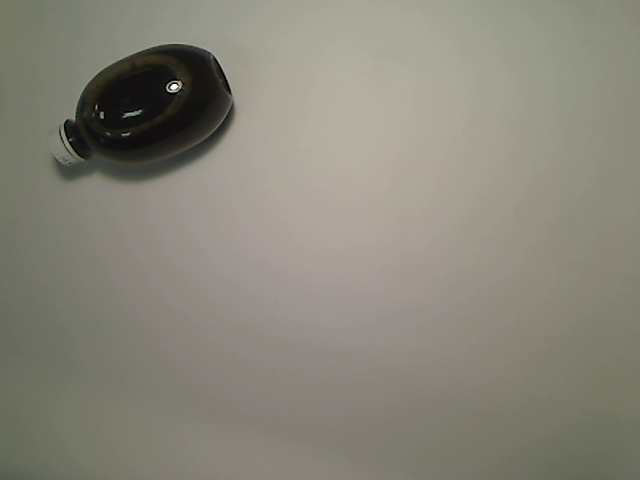plast_bottle: (45, 41, 236, 170)
